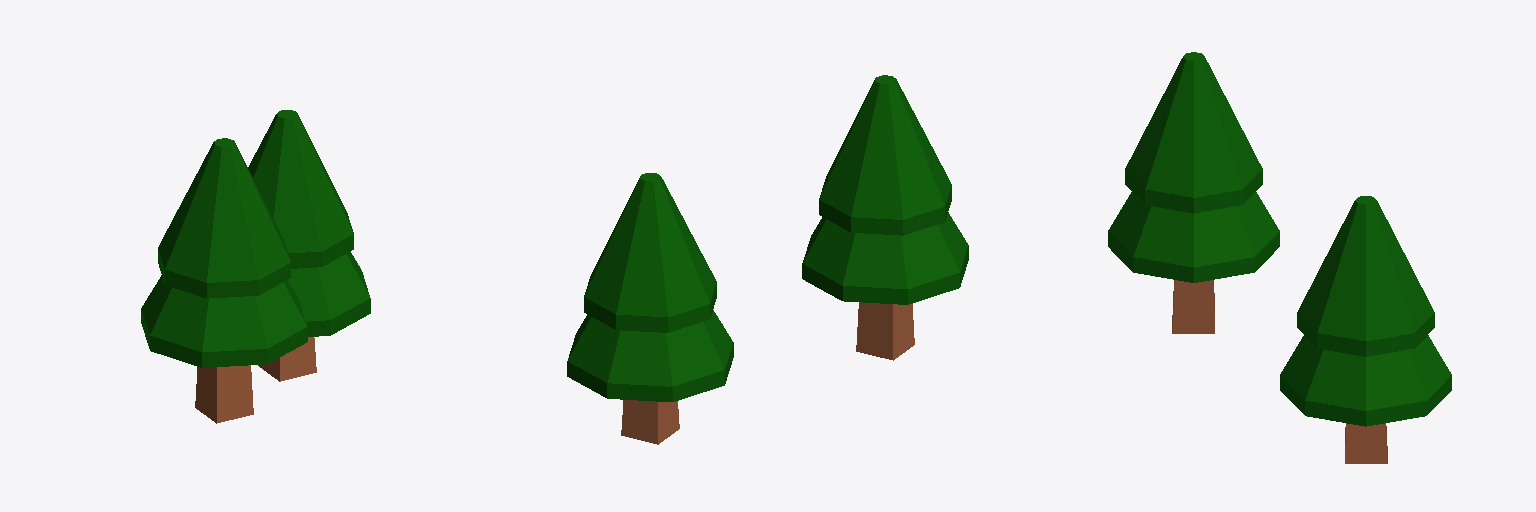
File: TreeDoubleDiagonalTile.obj
3 renders of one model, left to right at view 1: azimuth 30°, elevation 25°; view 2: azimuth 150°, elevation 25°; view 3: azimuth 270°, elevation 25°, orthographic.
Parts seen in each view (by area): view 1: tree.009_tree.006; view 2: tree.009_tree.006; view 3: tree.009_tree.006.
Boxes of the visible parts, x1=… form: tree.009_tree.006: x1=141, y1=110, x2=370, y2=423; tree.009_tree.006: x1=567, y1=75, x2=968, y2=444; tree.009_tree.006: x1=1108, y1=52, x2=1451, y2=463.
Size of the model in its own units: 1 by 1.05 by 1.